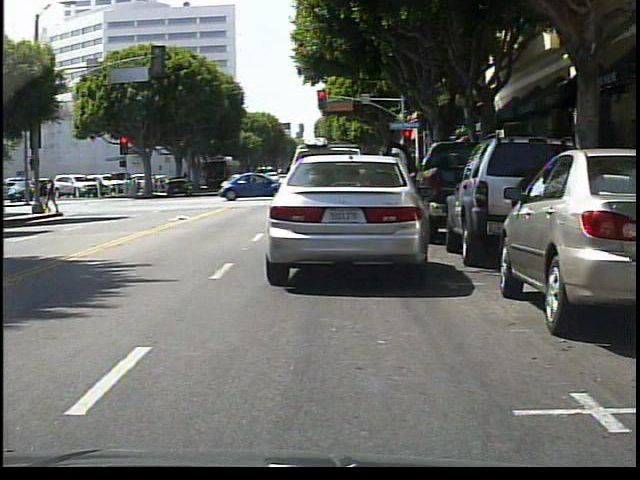person: (38, 179, 63, 217)
